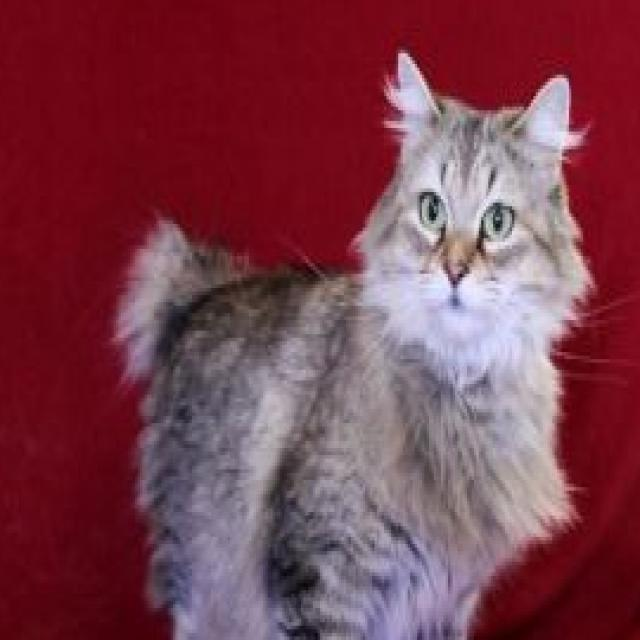American Bobtail: (102, 39, 600, 640)
